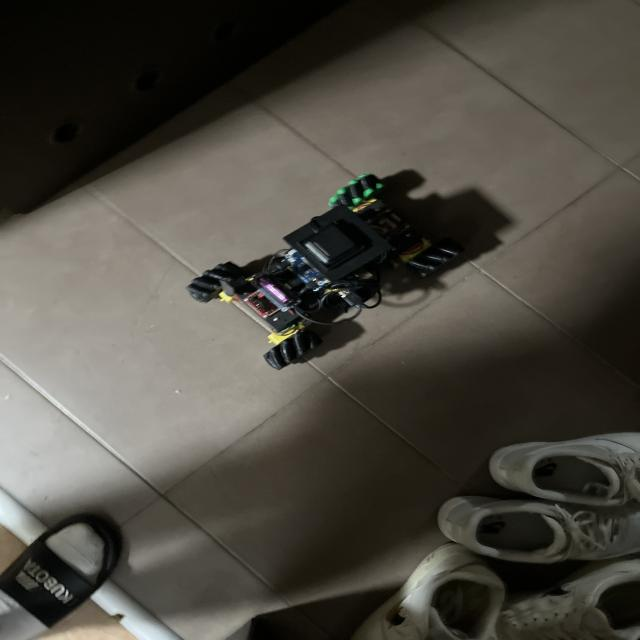robot: (186, 174, 463, 370)
